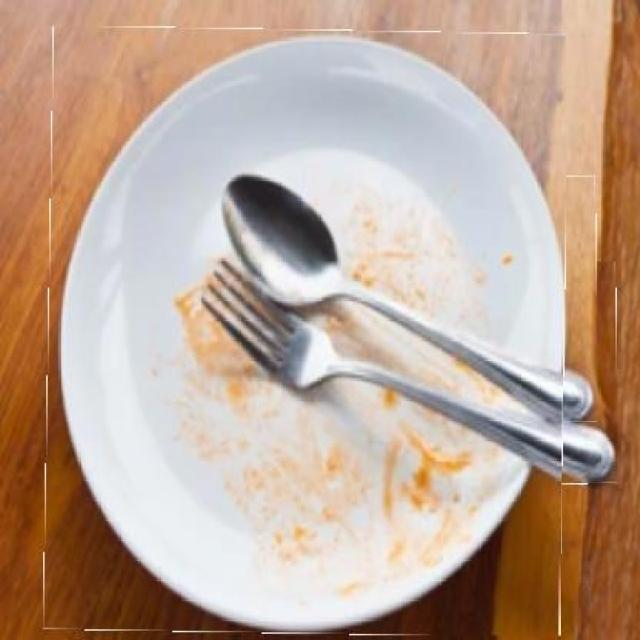Plate: (46, 29, 566, 637)
